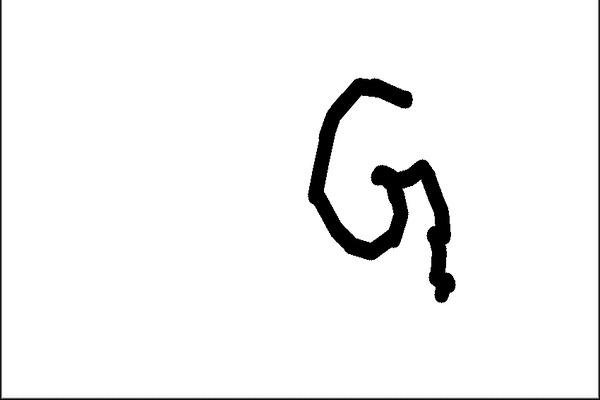G: (298, 70, 466, 305)
